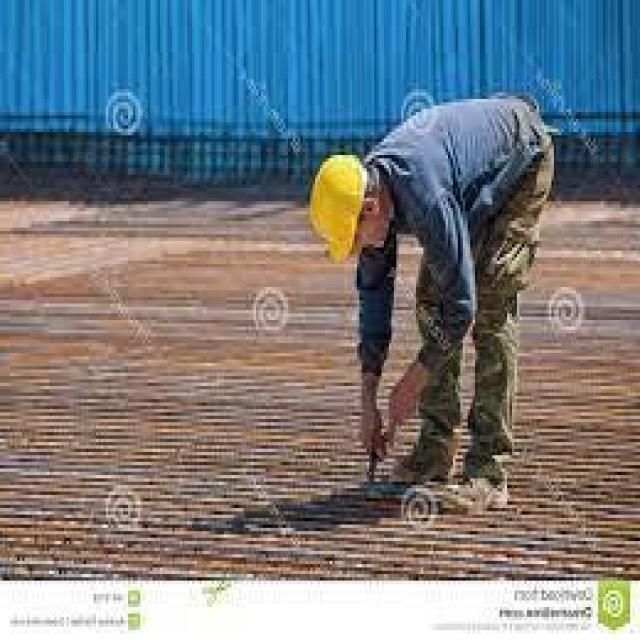helmet: (304, 150, 370, 269)
